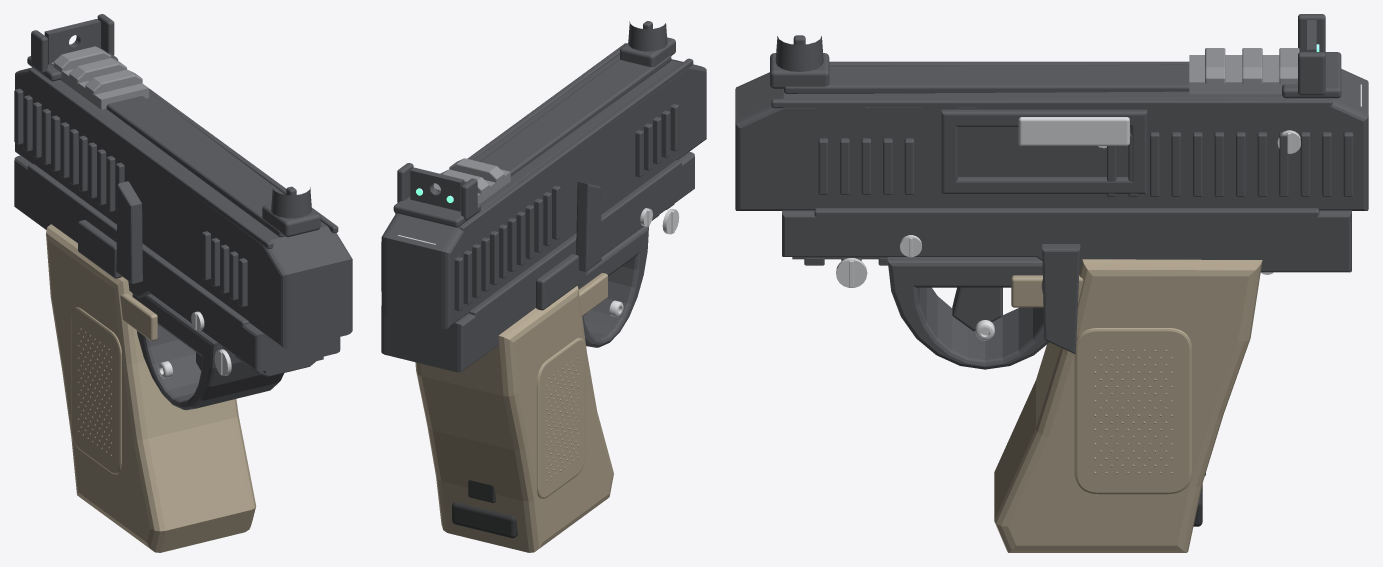
The model's file is glock19.glb.
The picture shows the model from 3 angles, left to right: view 1: azimuth 30°, elevation 25°; view 2: azimuth 150°, elevation 25°; view 3: azimuth 270°, elevation 25°; orthographic projection. The views are drawn at different scales.
Parts seen in each view (by area): view 1: compact-pistol, slide/gunmetal, slide/alloyDark; view 2: compact-pistol, slide/gunmetal, magazine/polymerBlack, slide/alloyDark; view 3: compact-pistol, slide/gunmetal, slide/alloyDark, slide/steelBright.
Part boxes in pixels (x1,y1,x2,y2): compact-pistol: [14, 155, 340, 552]; slide/gunmetal: [14, 14, 352, 349]; slide/alloyDark: [51, 46, 148, 109]; compact-pistol: [381, 151, 694, 552]; slide/gunmetal: [381, 21, 706, 329]; magazine/polymerBlack: [452, 480, 517, 538]; slide/alloyDark: [433, 158, 510, 203]; compact-pistol: [782, 208, 1351, 552]; slide/gunmetal: [735, 14, 1368, 210]; slide/alloyDark: [1189, 48, 1299, 94]; slide/steelBright: [1018, 84, 1361, 153].
Size of the model in its own units: 0.041 by 0.1468 by 0.1706.
